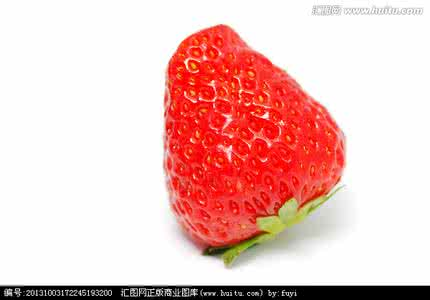strawberry: (163, 21, 347, 255)
